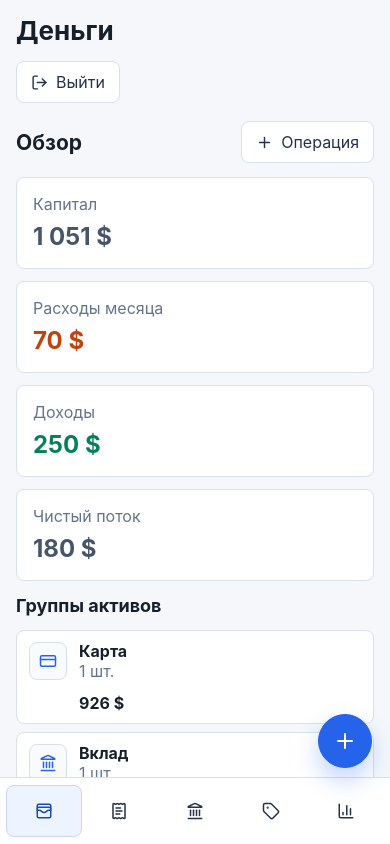
PWA finance experience › logs out from the UI and clears the rendered finance session
Expected: the heading "Деньги" is shown, [16,16,114,45]
Click the button "Выйти". click: (68, 82)
box: [16,61,120,103]
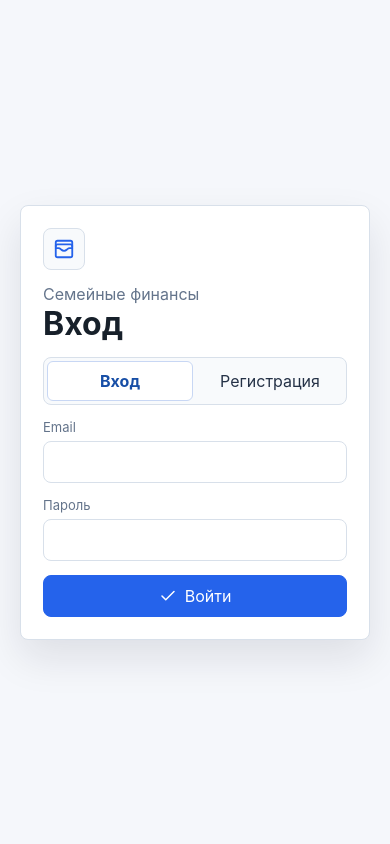
Expected: the form named "Вход в финансы" is shown, [20,204,370,640]
Expected: the text "Капитал" is gone
